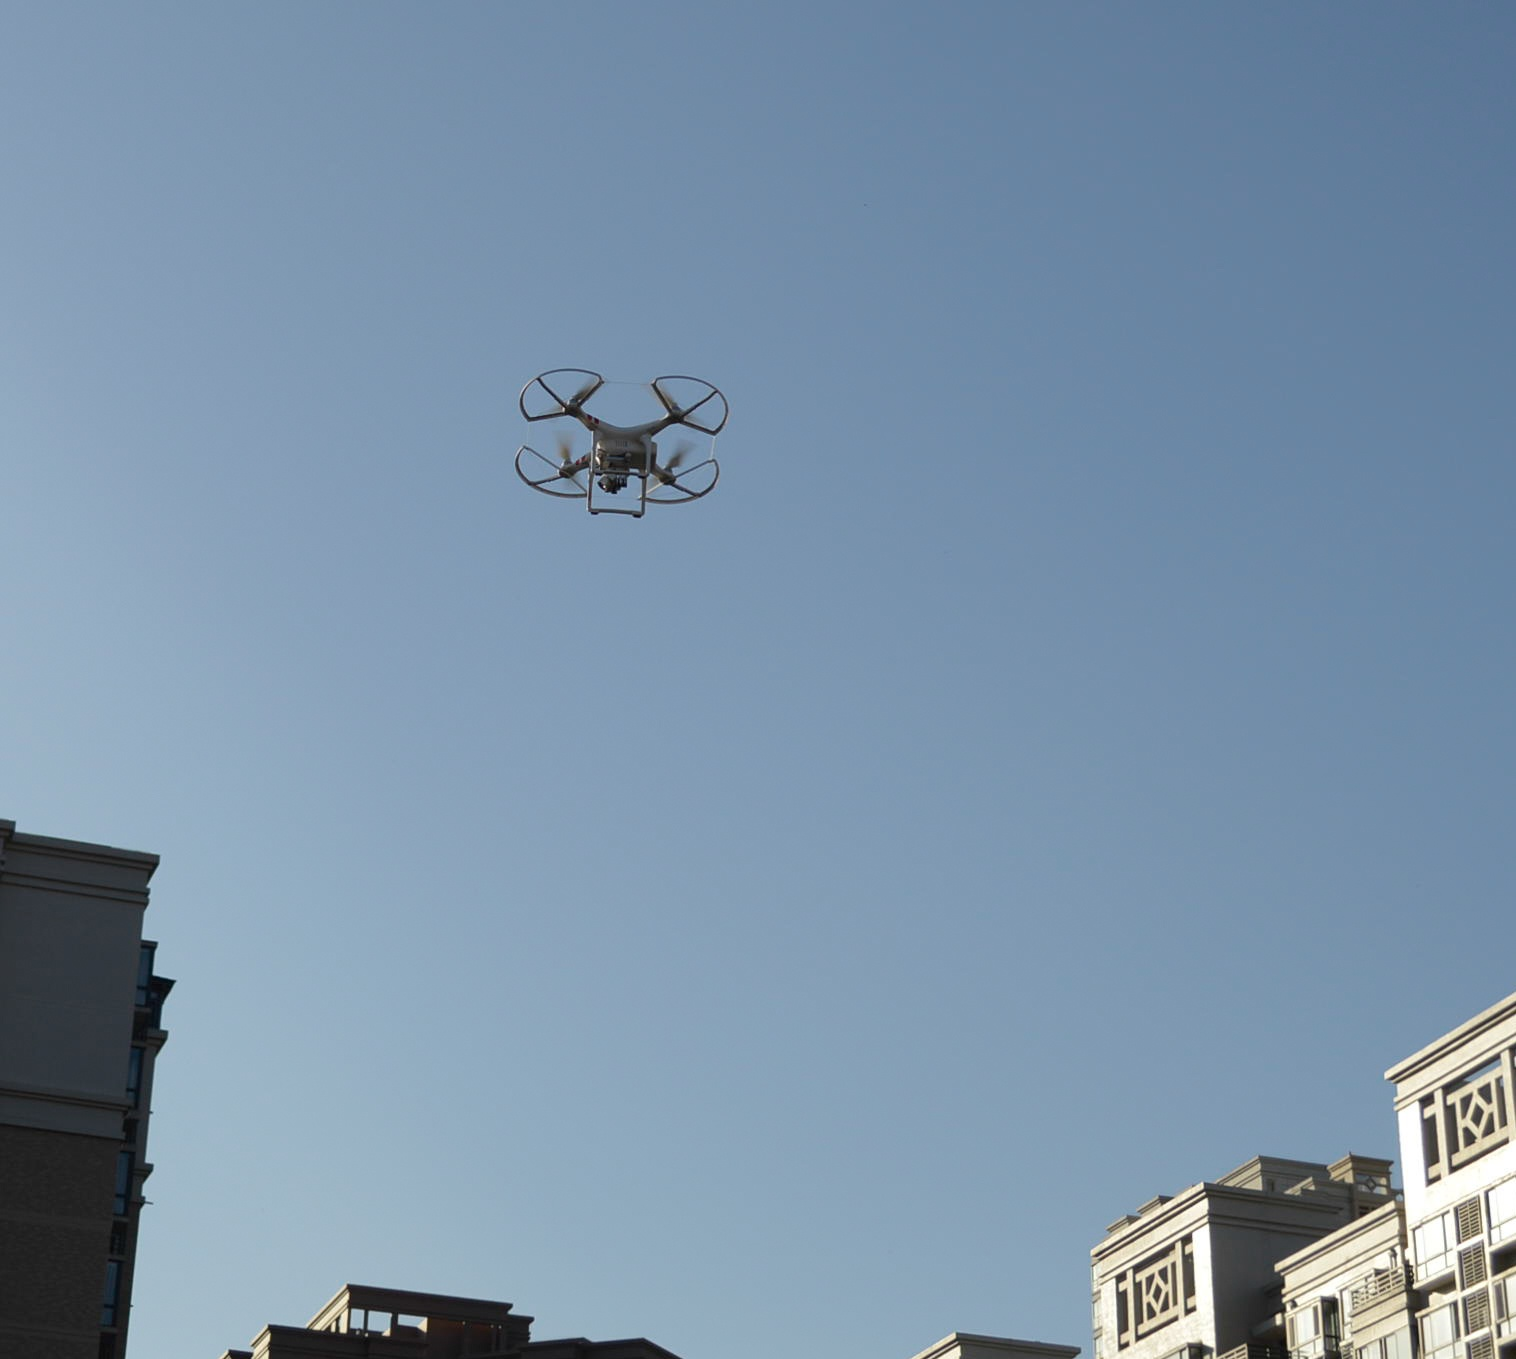DJI: (511, 365, 727, 522)
